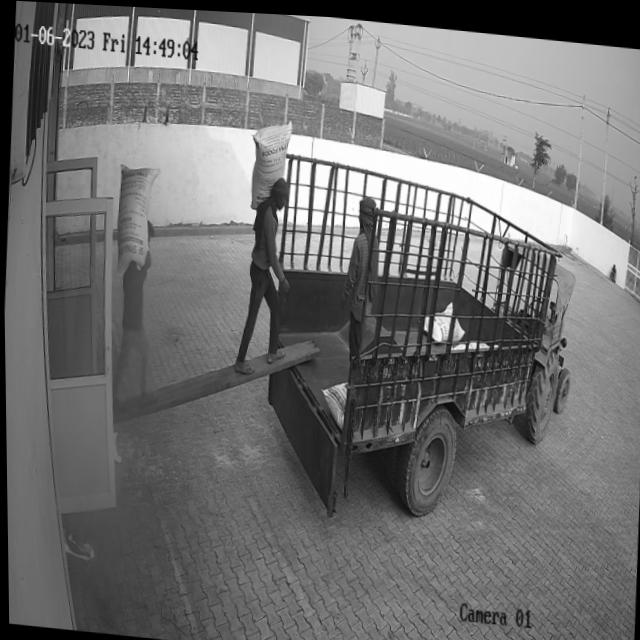sack: (113, 161, 160, 280), (249, 115, 292, 213)
